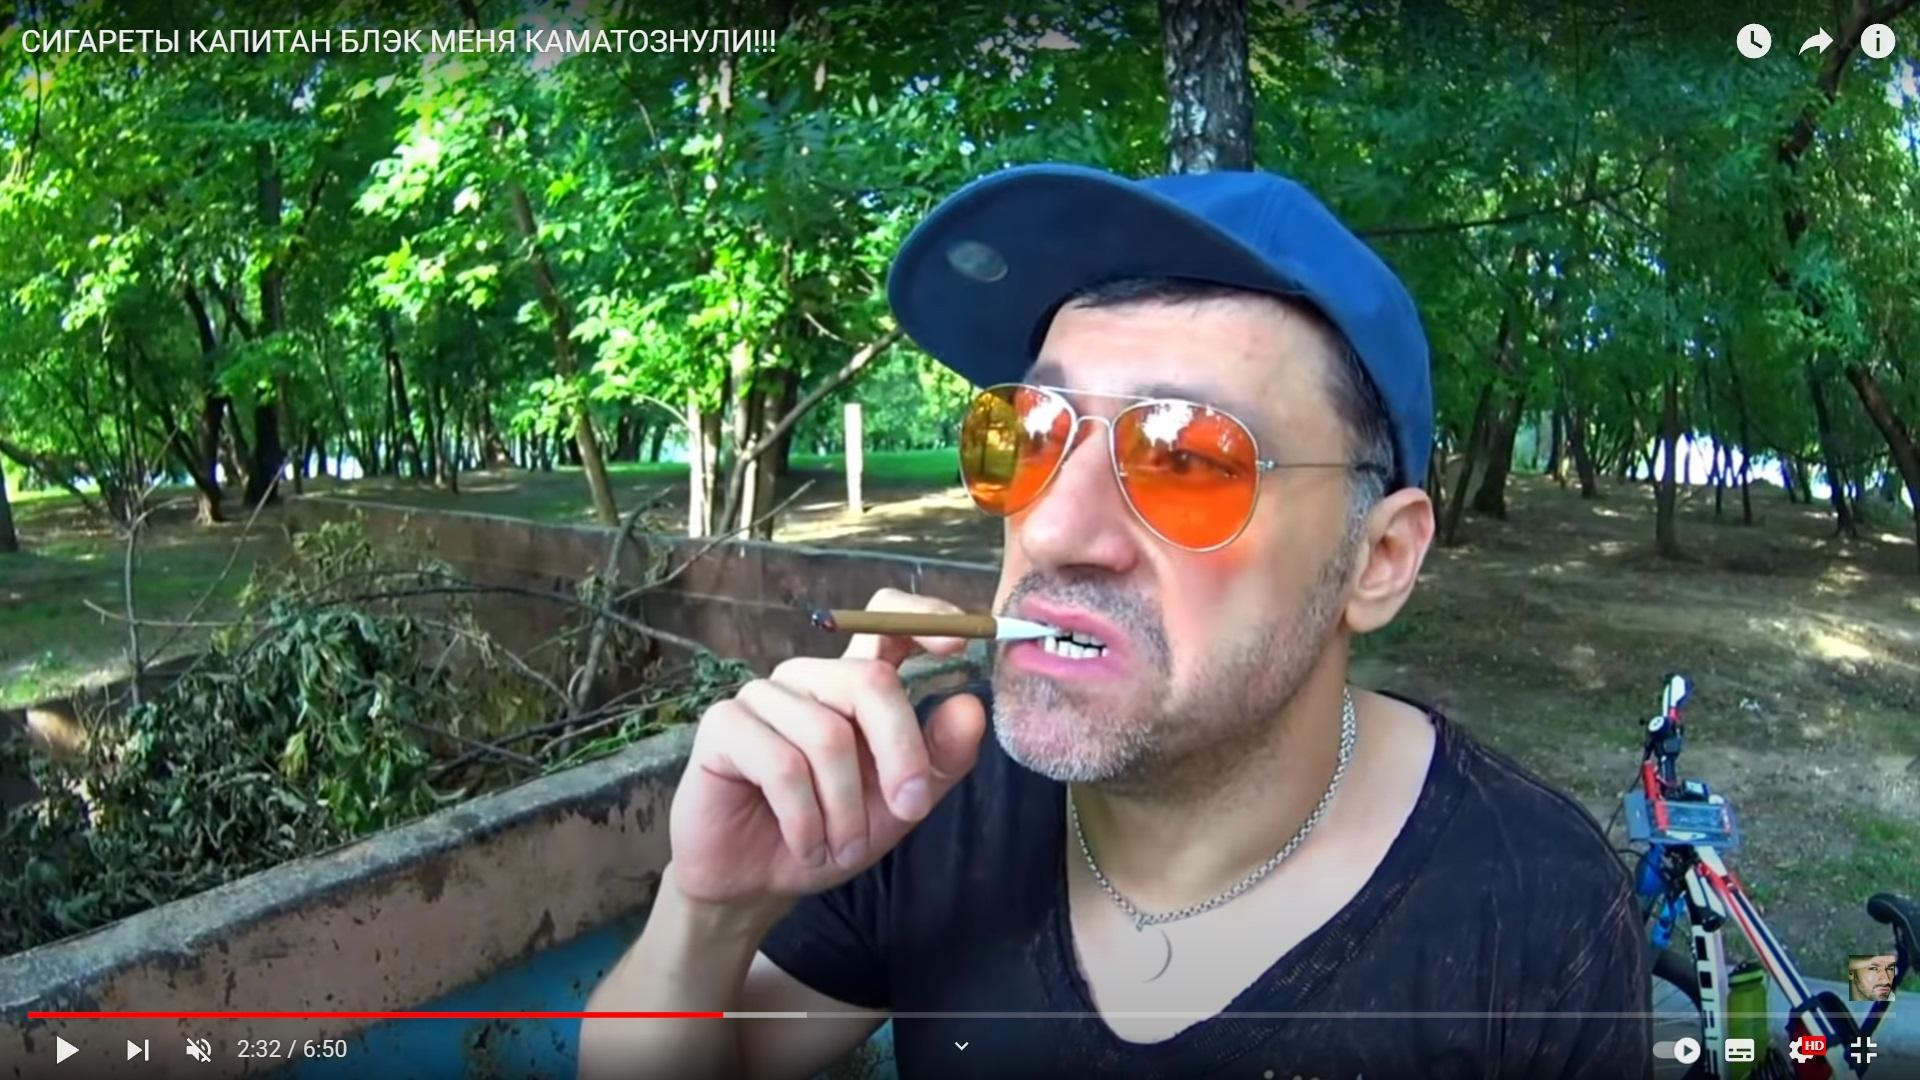cigarette: (810, 609, 1058, 641)
